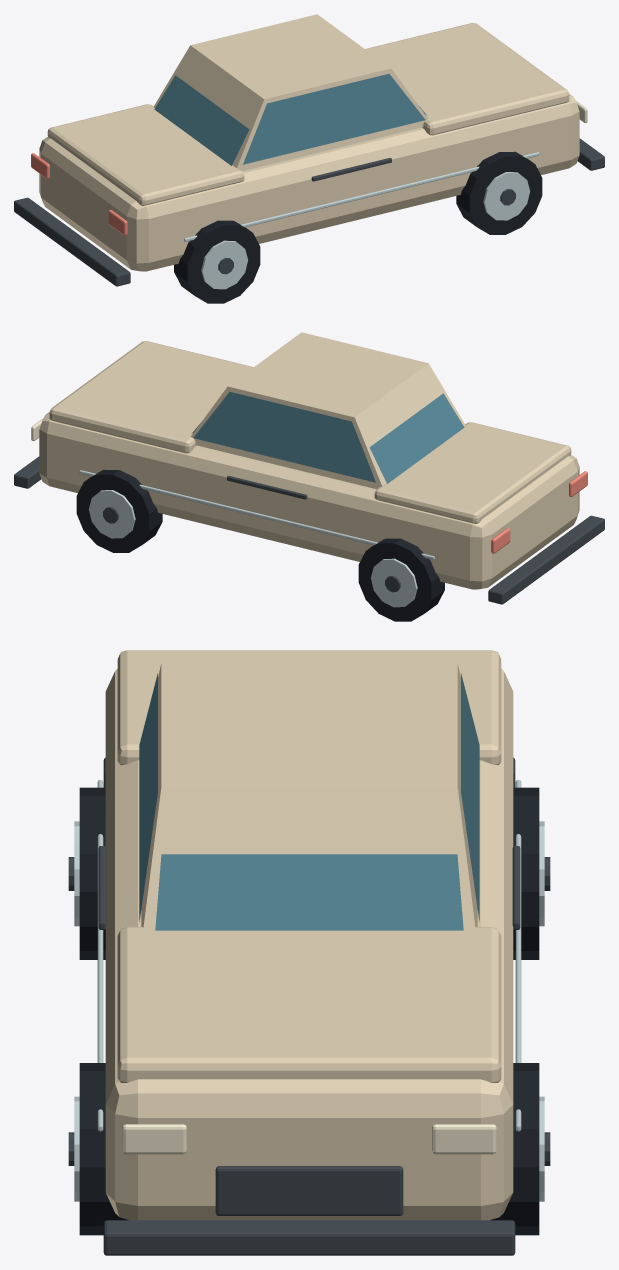
The model's file is Sedan.fbx.
3 views of the same model, one above another, from view 1: azimuth 30°, elevation 25°; view 2: azimuth 150°, elevation 25°; view 3: azimuth 270°, elevation 25° (orthographic). The views are drawn at different scales.
Parts seen in each view (by area): view 1: Sedan; view 2: Sedan; view 3: Sedan.
Part boxes in pixels (left/top/right/bottom): Sedan: left=14, top=14, right=604, bottom=303; Sedan: left=14, top=332, right=604, bottom=621; Sedan: left=68, top=650, right=550, bottom=1255.
Bounding box in the file's own units: 524 × 178 × 223.
